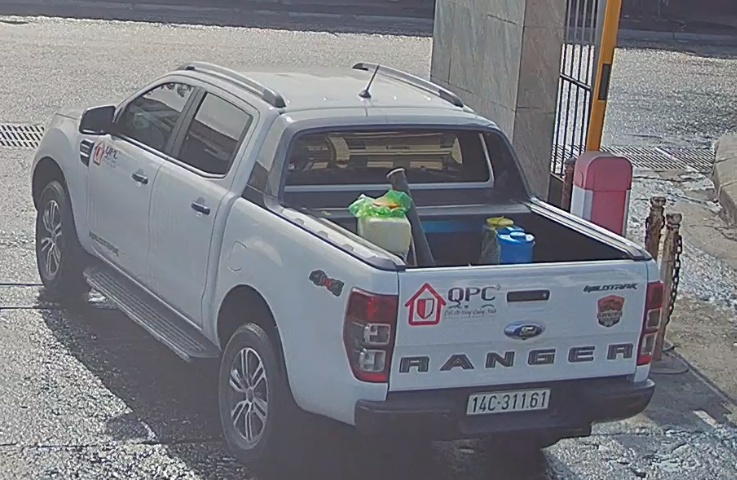vehicle plate: (463, 389, 557, 412)
